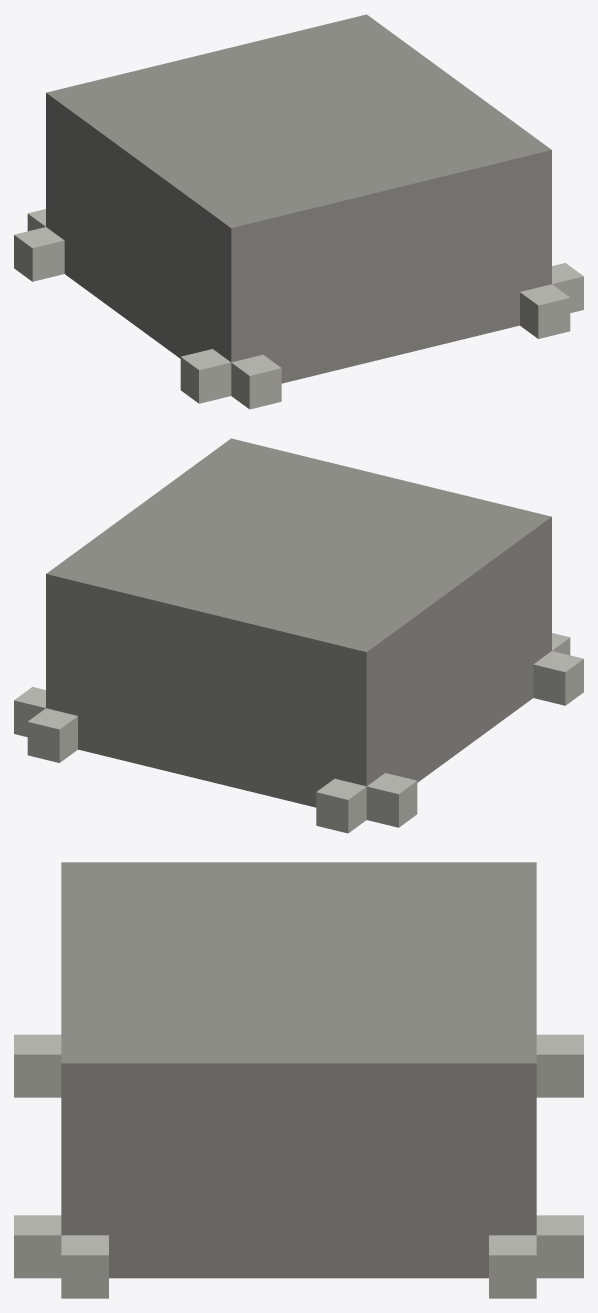
3 renders of one model, top to bottom at view 1: azimuth 30°, elevation 25°; view 2: azimuth 150°, elevation 25°; view 3: azimuth 270°, elevation 25°, orthographic. The views are drawn at different scales.
Visible parts, largest first — view 1: Matrix; view 2: Matrix; view 3: Matrix.
Part boxes in pixels (x1,y1,x2,y2): Matrix: (14, 14, 583, 409); Matrix: (14, 438, 583, 833); Matrix: (14, 862, 583, 1298).
Bounding box in the file's own units: 12 × 5 × 12.
1 material, 1 textured.
